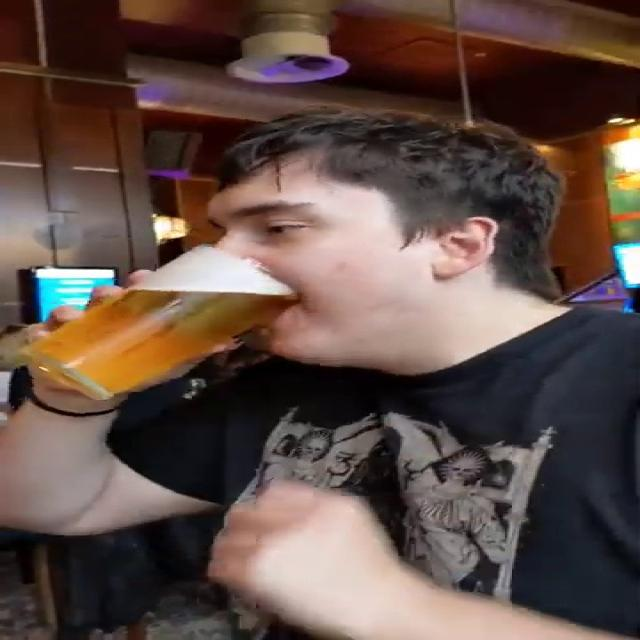Cup: (25, 244, 304, 399)
Hand: (22, 267, 234, 411)
Mouth: (227, 273, 329, 337)
